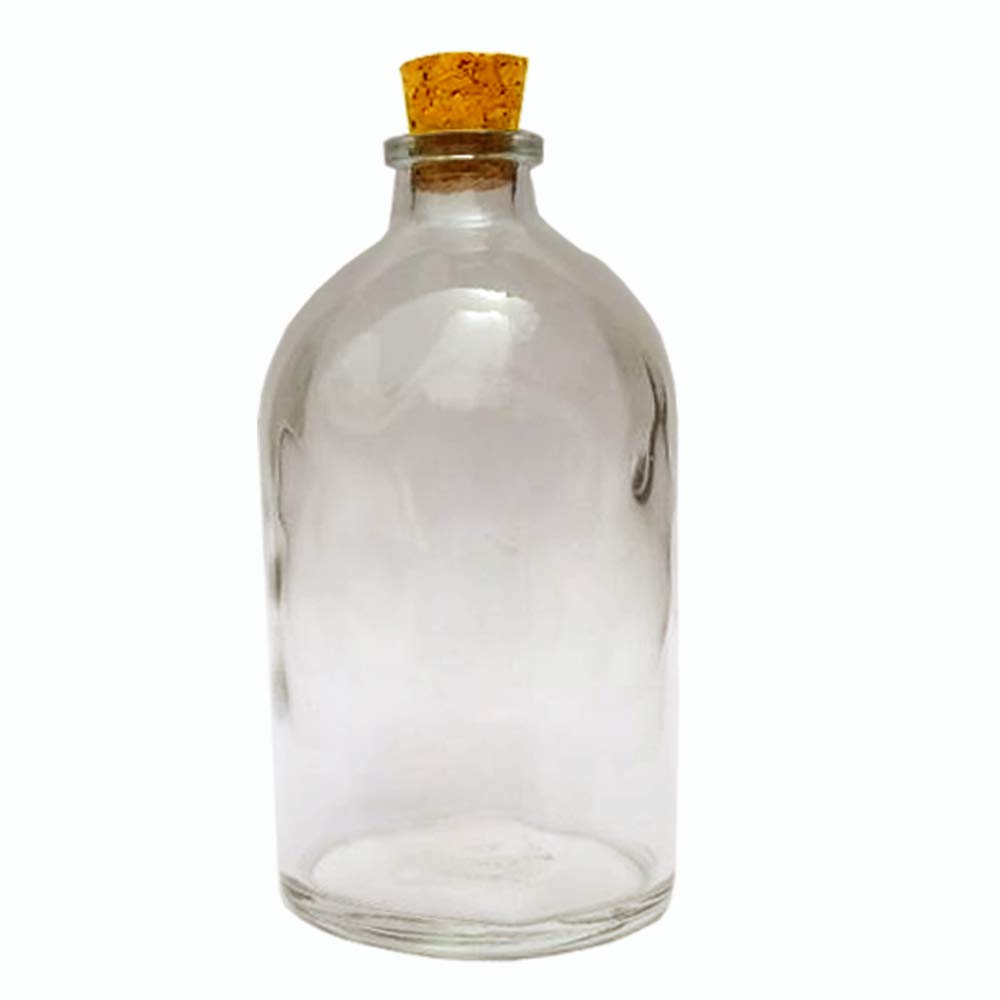glass_bottle: (244, 44, 696, 968)
